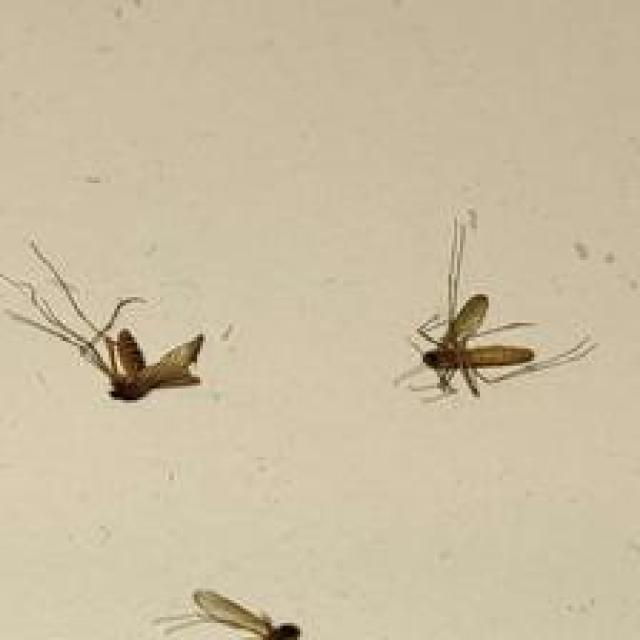Culex: (392, 207, 597, 399)
